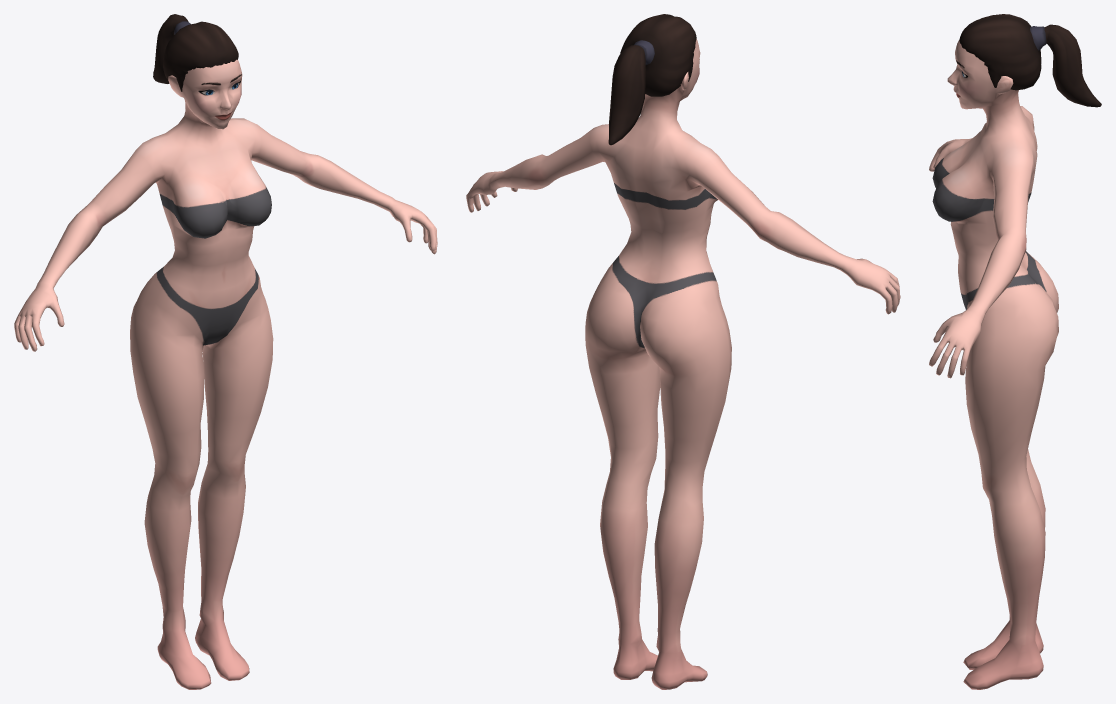
The model's file is female_body_base_for_rpg_2.glb.
3 renders of one model, left to right at view 1: azimuth 30°, elevation 25°; view 2: azimuth 150°, elevation 25°; view 3: azimuth 270°, elevation 25°, orthographic. The views are drawn at different scales.
Parts seen in each view (by area): view 1: LOWGirl; view 2: LOWGirl; view 3: LOWGirl.
Boxes of the visible parts, x1,y1,x2,y2 form: LOWGirl: (14, 14, 437, 689); LOWGirl: (466, 14, 900, 689); LOWGirl: (929, 14, 1101, 689).
Bounding box in the file's own units: 1.25 × 1.87 × 0.4447.
Materials: 1 (1 with a texture image).
